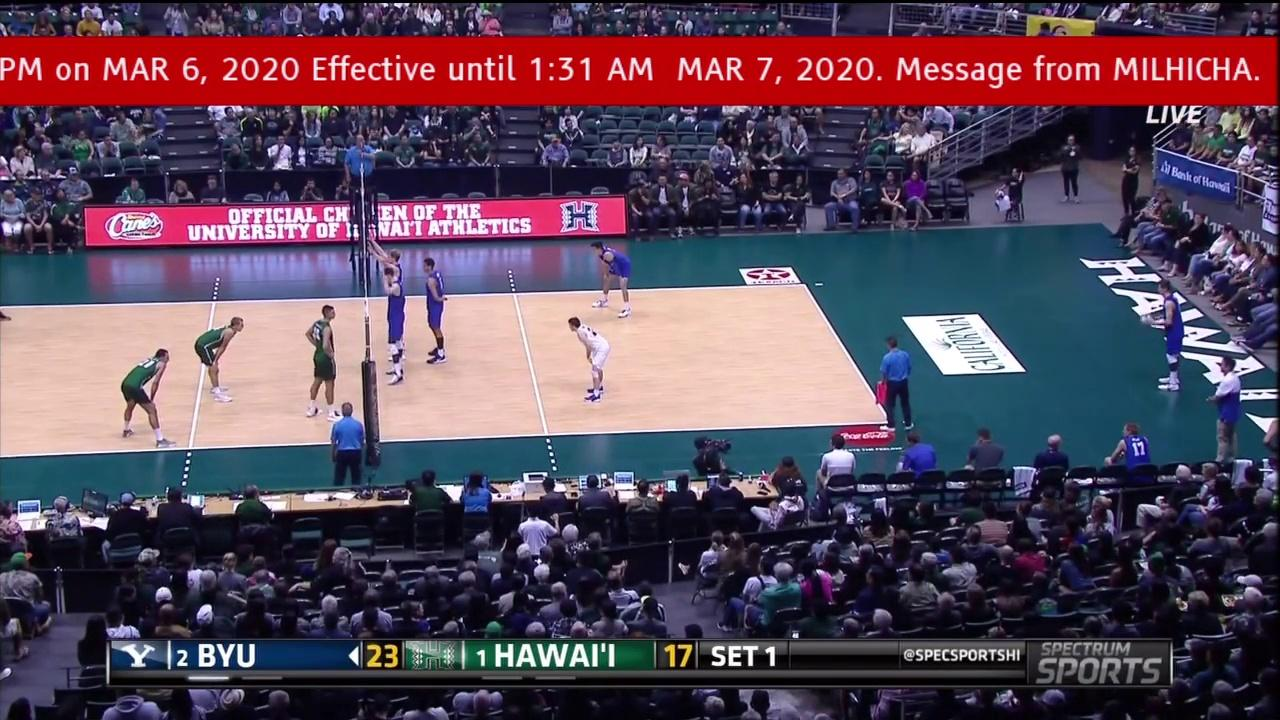player: (1144, 271, 1194, 396), (372, 265, 417, 394), (121, 350, 170, 439), (195, 318, 244, 400), (565, 316, 609, 401), (307, 305, 340, 416), (421, 257, 451, 363), (376, 240, 412, 316), (593, 244, 629, 316)
refree: (874, 332, 929, 436), (336, 129, 388, 228), (327, 401, 371, 482)
